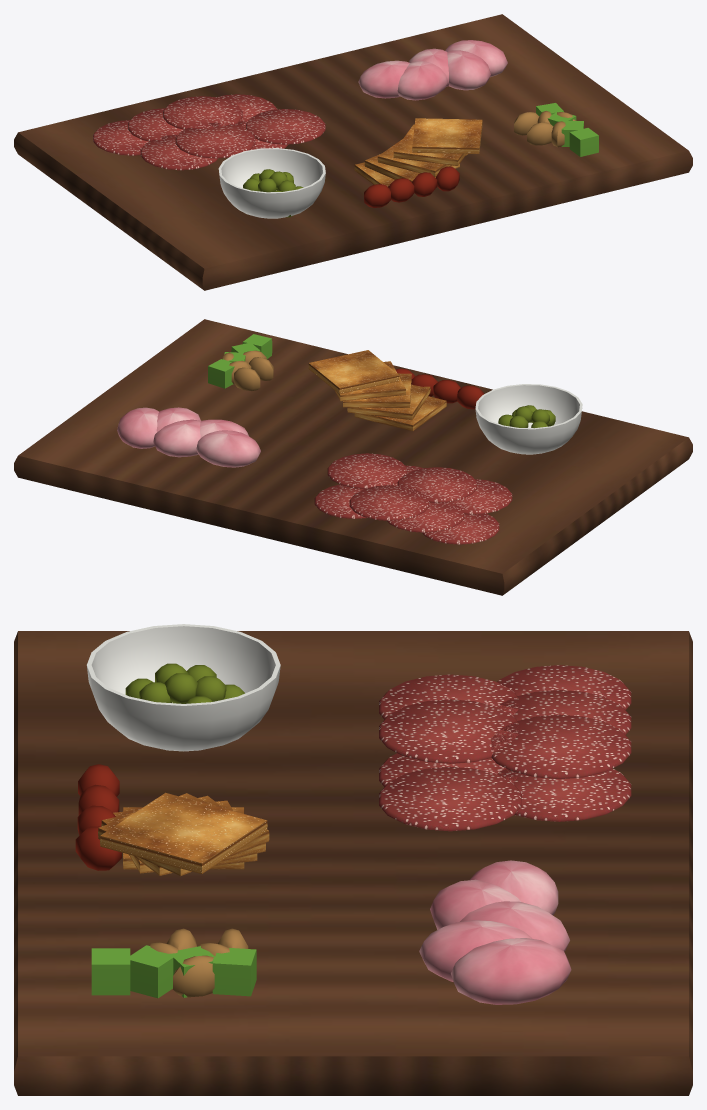
The model's file is deli_charcuterie_board.glb.
3 renders of one model, top to bottom at view 1: azimuth 30°, elevation 25°; view 2: azimuth 150°, elevation 25°; view 3: azimuth 270°, elevation 25°, orthographic. The views are drawn at different scales.
Parts seen in each view (by area): view 1: deli_charcuterie_board; view 2: deli_charcuterie_board; view 3: deli_charcuterie_board.
Part boxes in pixels (<box>): deli_charcuterie_board: <box>14,14,692,290</box>; deli_charcuterie_board: <box>14,319,692,595</box>; deli_charcuterie_board: <box>14,624,692,1095</box>.
Size of the model in its own units: 0.42 by 0.048 by 0.28.
Materials: 9 (4 with a texture image).
